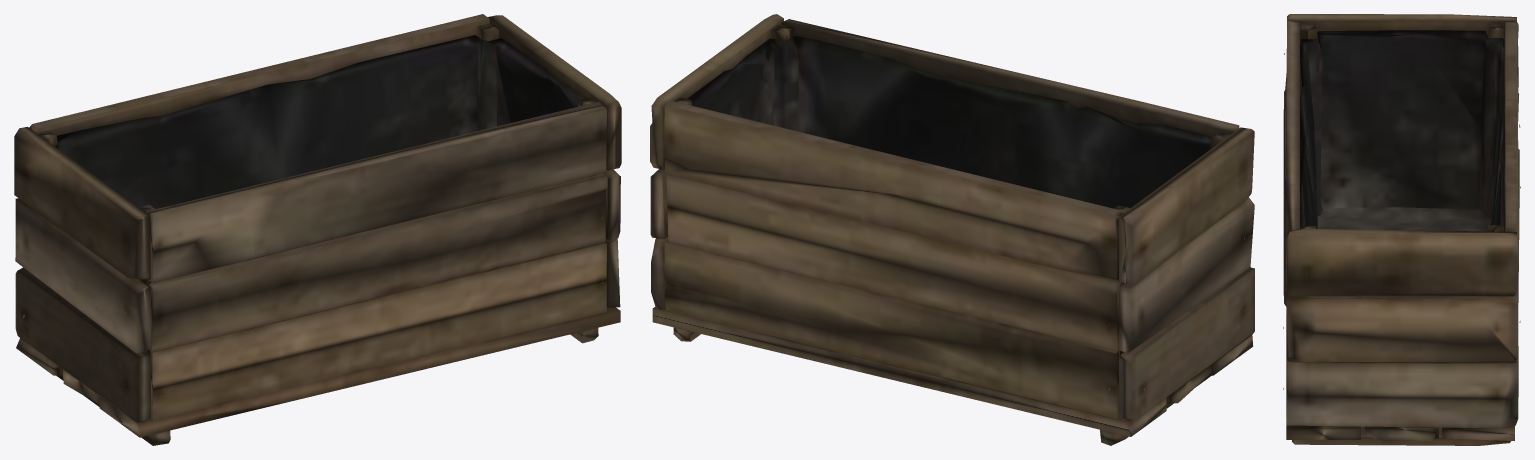
File: planter_box_01.glb
The picture shows the model from 3 angles, left to right: view 1: azimuth 30°, elevation 25°; view 2: azimuth 150°, elevation 25°; view 3: azimuth 270°, elevation 25°; orthographic projection. The views are drawn at different scales.
Visible parts, largest first — view 1: planter_box_01; view 2: planter_box_01; view 3: planter_box_01.
Part boxes in pixels (x1,y1,x2,y2): planter_box_01: (14,14,621,445); planter_box_01: (650,14,1254,445); planter_box_01: (1283,14,1520,445).
Bounding box in the file's own units: 0.9116 × 0.425 × 0.4129.
Materials: 1 (1 with a texture image).
